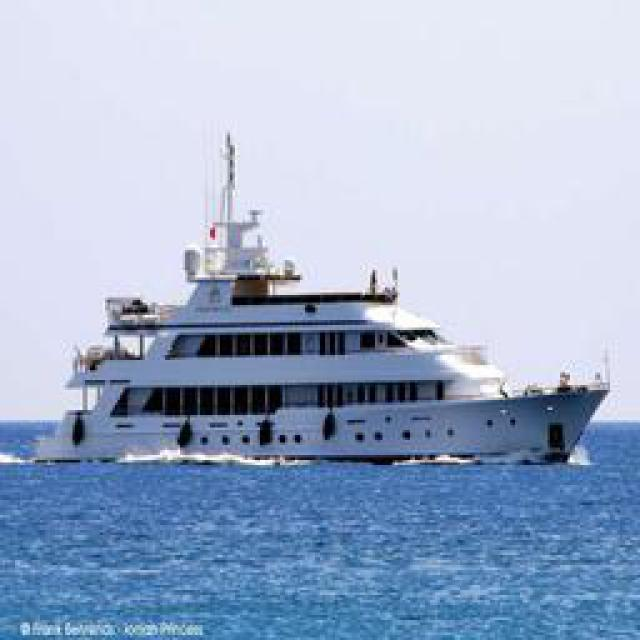Ship: (36, 132, 611, 462)
